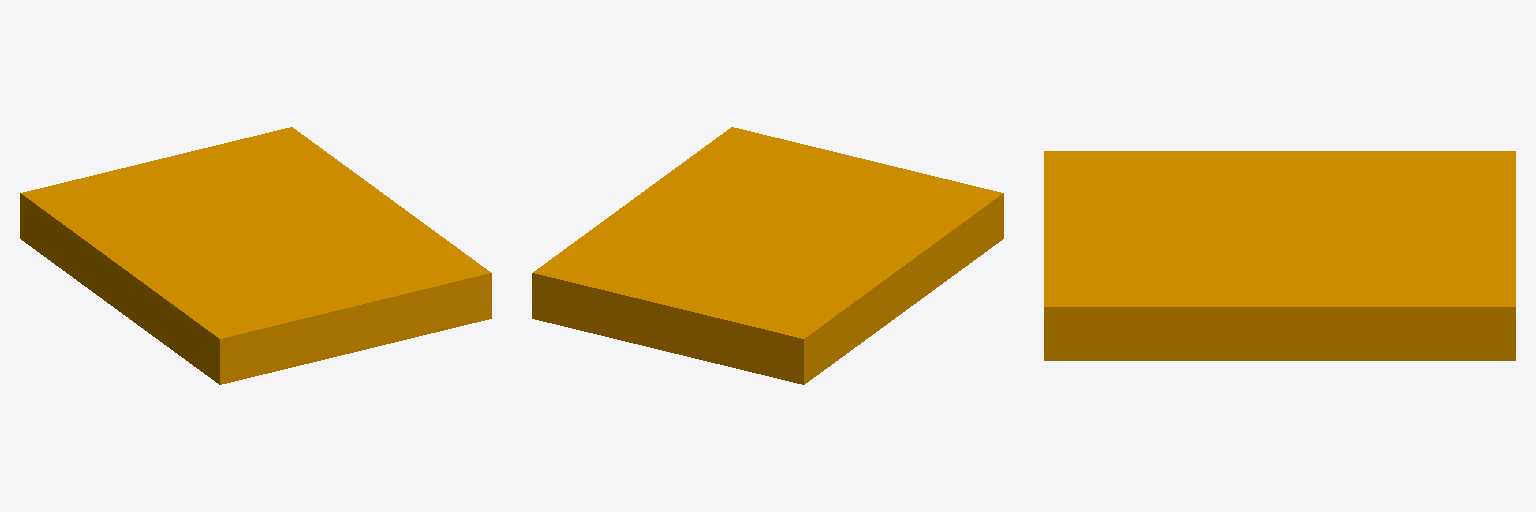
The robot description file, URDF, robot "sink_counter_back":
<?xml version="1.0"?>
<robot name="sink_counter_back">
    <material name="color">
        <color rgba="0.4 0.4 0.4 1"/>
    </material>
    <link name="base">
        <collision name="box_collision">
        <geometry>
            <box size="0.309 0.393 0.05"/>
        </geometry>
        </collision>
        <visual name="box_visual">
    			<origin xyz="0 0 0" rpy="0 0 0"/>

        <geometry>
            <box size="0.309 0.393 0.05"/>
        </geometry>
        </visual>
        <inertial>
			<mass value="0.3"/>
			<inertia ixx="0.6" ixy="0.0" ixz="0.0" iyy="0.5" iyz="-0.0" izz="0.08"/>
		</inertial>
    </link>
</robot>

--- What the picture shows (computed from the rendered views, not written in the file) ---
3 views of the same robot in one strip: view 1: azimuth 30°, elevation 25°; view 2: azimuth 150°, elevation 25°; view 3: azimuth 270°, elevation 25° (orthographic).
Robot: sink_counter_back — 1 links, 0 joints (none); root link base; default pose: every joint at zero.
Links seen in each view (by area): view 1: base; view 2: base; view 3: base.
Boxes of the visible links, x1,y1,x2,y2 form: base: [20, 127, 491, 384]; base: [532, 127, 1003, 384]; base: [1044, 151, 1515, 360].
Bounding box of the posed robot: 0.309 × 0.393 × 0.05 m (x, y, z).
Geometry: primitives only (box / cylinder / sphere), no mesh files.